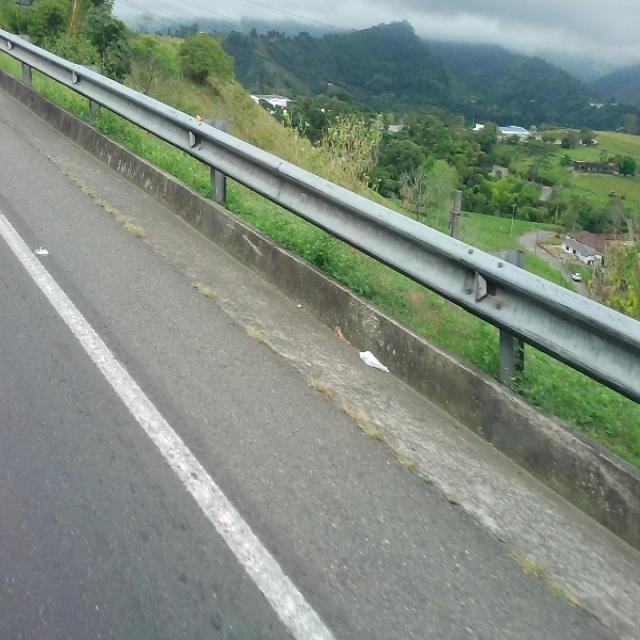DITCH: (1, 59, 638, 638), (1, 69, 638, 637), (1, 120, 638, 638)
